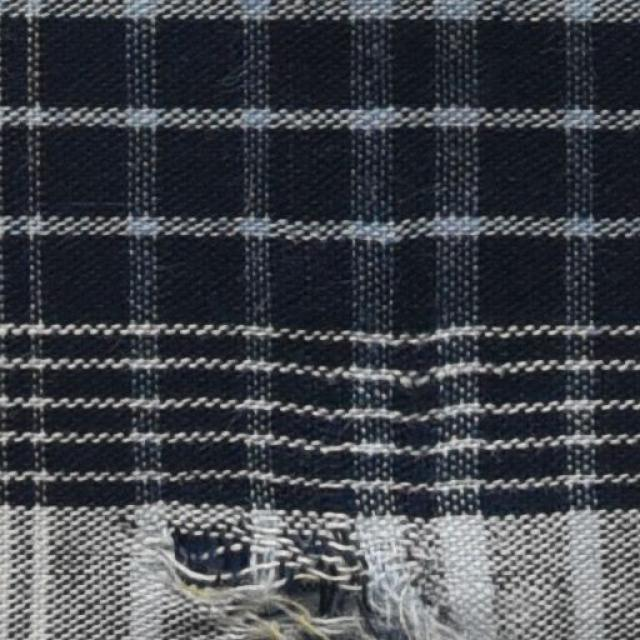Snag: (154, 511, 473, 639)
